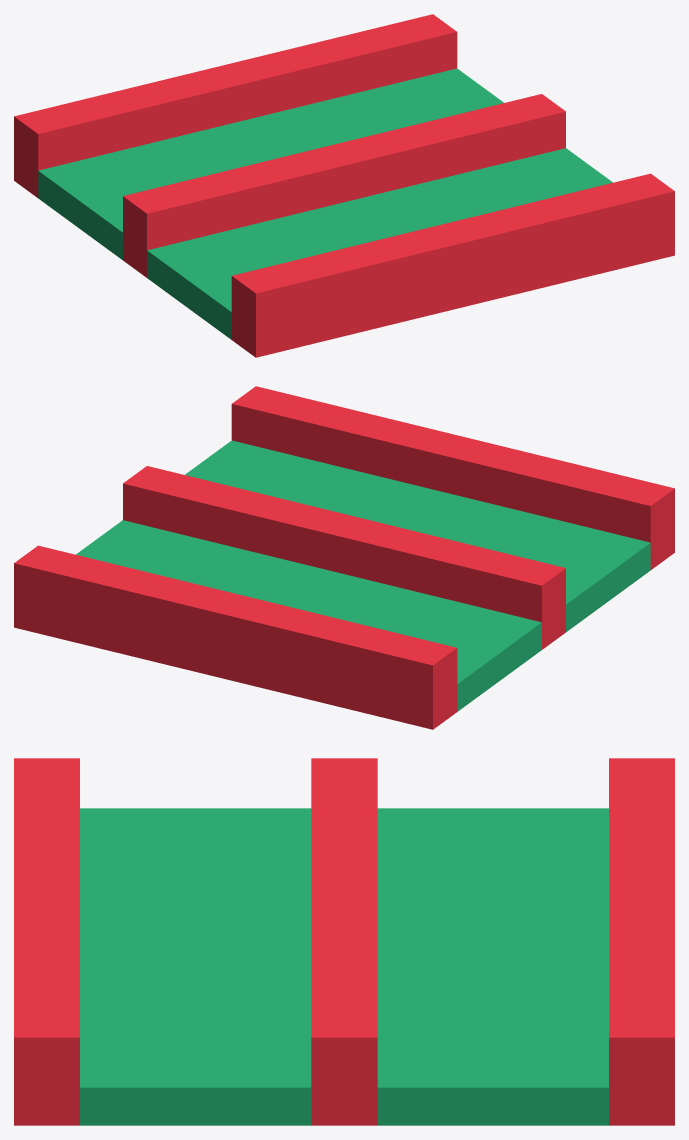
The model's file is split.obj.
3 views of the same model, one above another, from view 1: azimuth 30°, elevation 25°; view 2: azimuth 150°, elevation 25°; view 3: azimuth 270°, elevation 25° (orthographic). The views are drawn at different scales.
Parts seen in each view (by area): view 1: split; view 2: split; view 3: split.
Part boxes in pixels (x1,y1,x2,y2): split: [14, 14, 674, 357]; split: [14, 386, 674, 729]; split: [14, 758, 674, 1125].
Size of the model in its own units: 0.9999 by 0.1467 by 0.9999.
